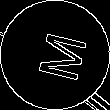M_W: (25, 27, 85, 83)
